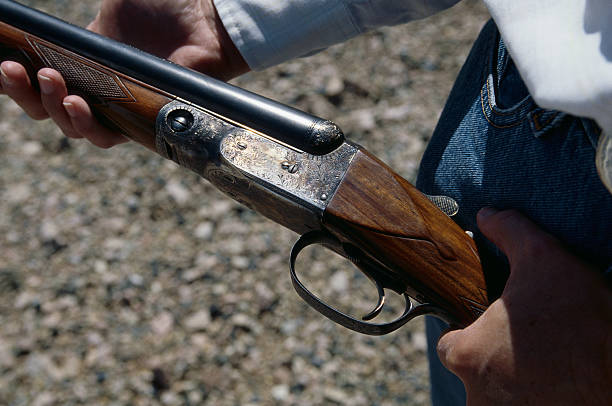shotgun: (25, 1, 450, 352)
